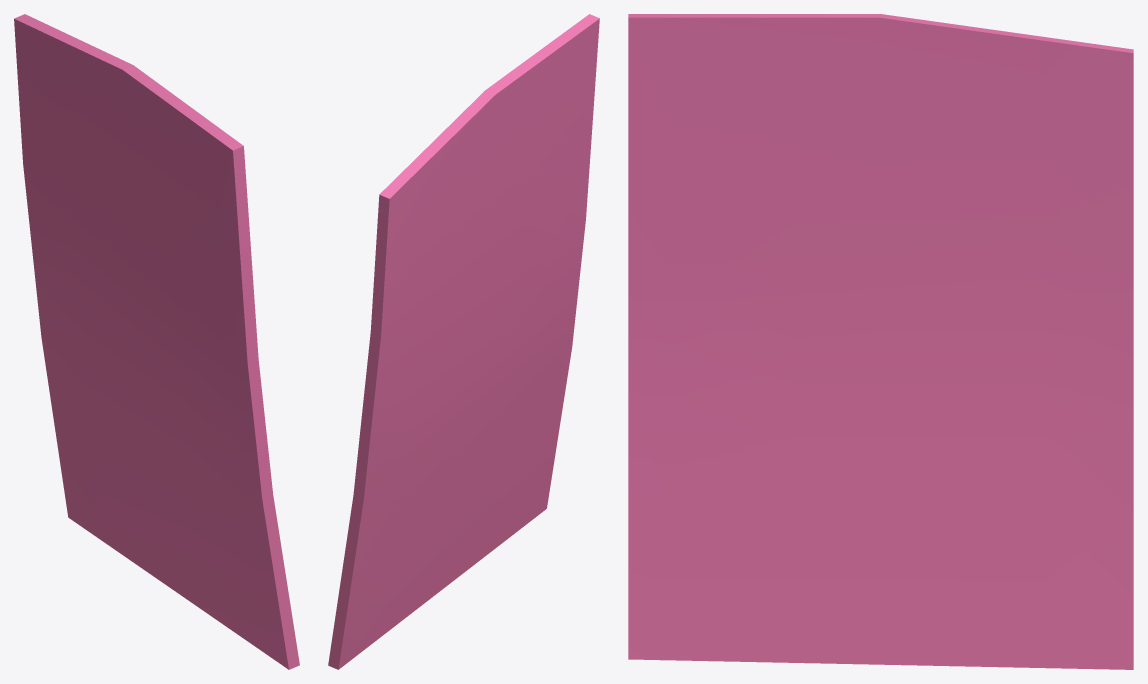
The model's file is Note_1_2.fbx.
The picture shows the model from 3 angles, left to right: view 1: azimuth 30°, elevation 25°; view 2: azimuth 150°, elevation 25°; view 3: azimuth 270°, elevation 25°; orthographic projection. The views are drawn at different scales.
Parts seen in each view (by area): view 1: Note_1_2; view 2: Note_1_2; view 3: Note_1_2.
Boxes of the visible parts, <box> form: Note_1_2: <box>14,14,299,669</box>; Note_1_2: <box>328,14,599,669</box>; Note_1_2: <box>628,14,1133,669</box>.
Bounding box in the file's own units: 3.84 × 29.76 × 21.89.
